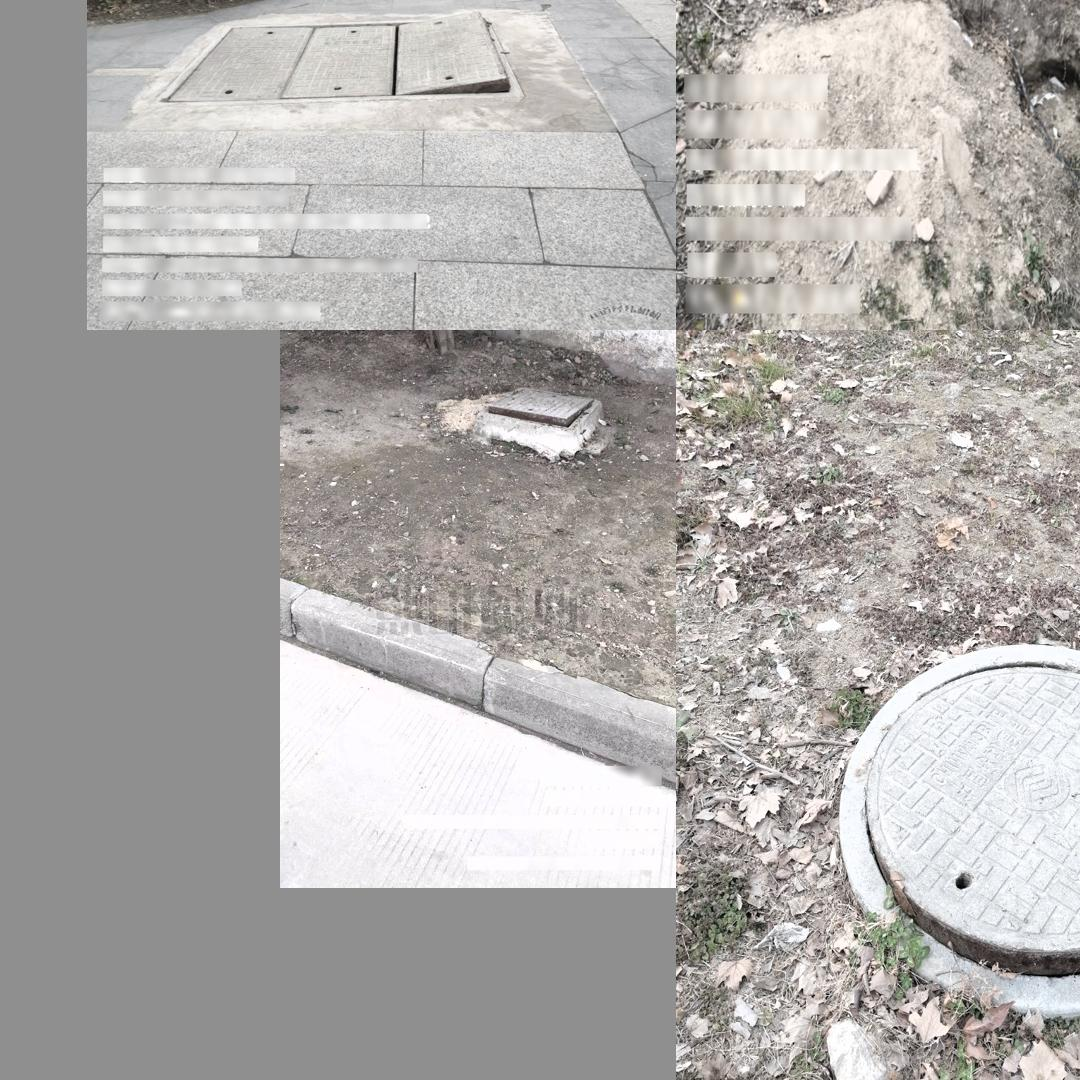uncovered: (836, 642, 1080, 1014), (157, 13, 523, 110), (485, 387, 600, 433)
